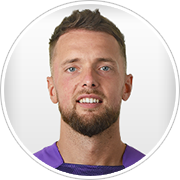smile: (73, 96, 105, 108)
